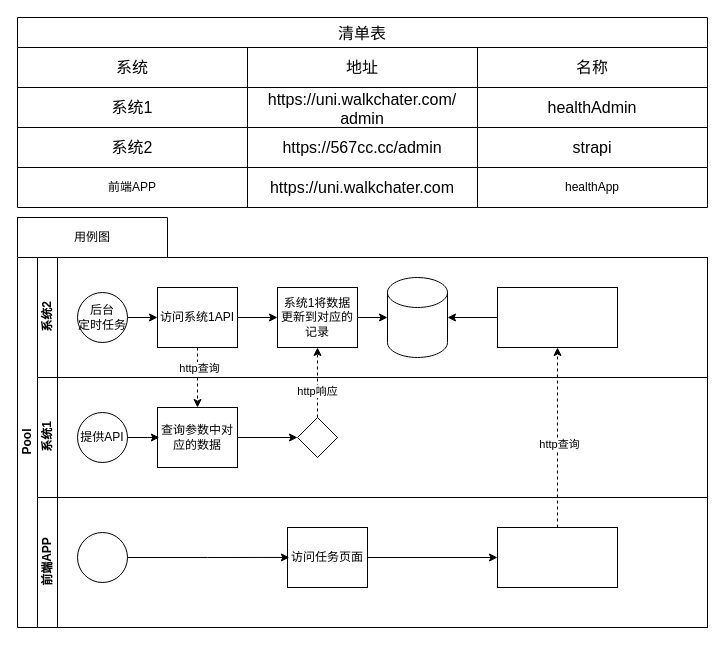
This 725x645 diagram has some shape labels left out. Here are the shapes that lost their labels. From the top down, the centre of each, then its label:
(417,317): 数据库
(557,317): 查询API
(317,437): 结果
(102,557): 用户
(557,557): 访问系统2API
